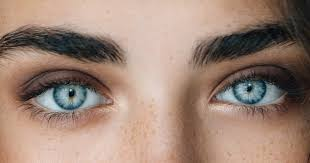pupil: (53, 84, 87, 110), (233, 80, 267, 103)
